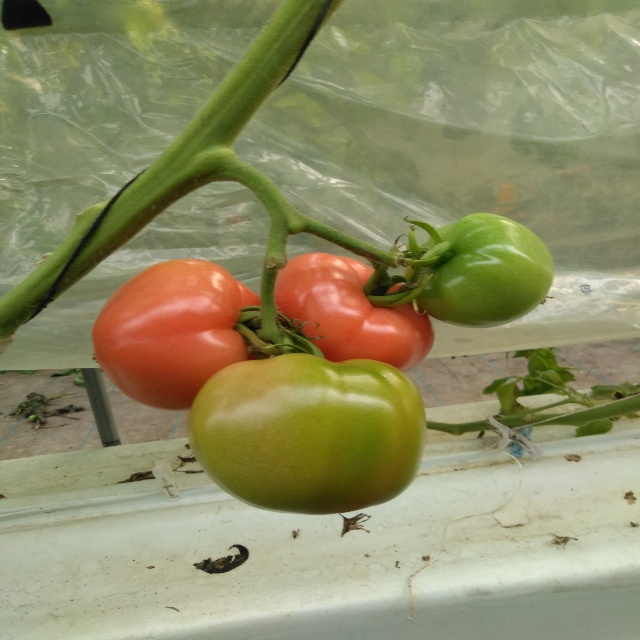b_fully_ripened: (90, 258, 273, 411), (270, 253, 435, 373)
b_green: (406, 213, 555, 328)
b_half_ripened: (186, 353, 426, 515)
